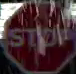Stop: (4, 2, 75, 73)
